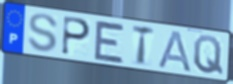A: (156, 29, 193, 74)
E: (93, 18, 127, 65)
P: (60, 15, 92, 57)
Q: (192, 34, 224, 77)
S: (27, 12, 60, 54)
T: (131, 24, 156, 67)
